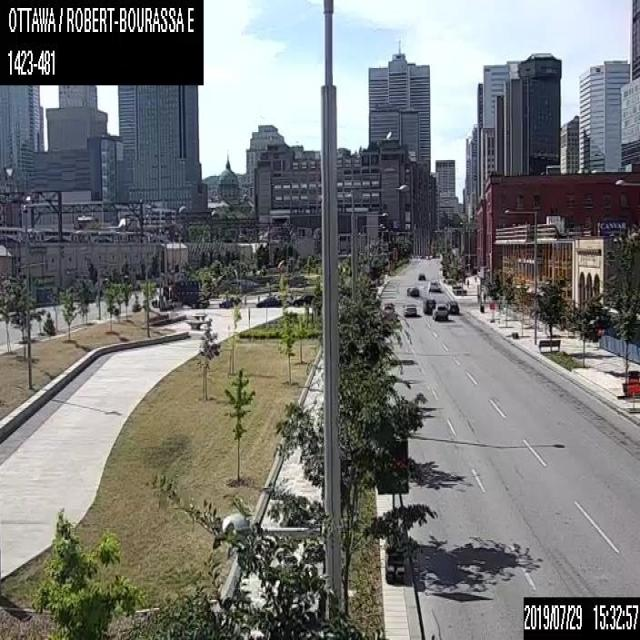construction: (373, 439, 408, 585), (625, 373, 639, 412)
vehicle: (162, 278, 210, 310), (254, 295, 282, 308), (288, 293, 308, 307), (432, 303, 447, 320), (220, 296, 241, 308), (422, 296, 435, 313), (445, 300, 459, 313), (404, 303, 416, 316), (382, 302, 394, 314), (427, 278, 438, 290), (406, 285, 418, 296), (417, 272, 425, 280)
